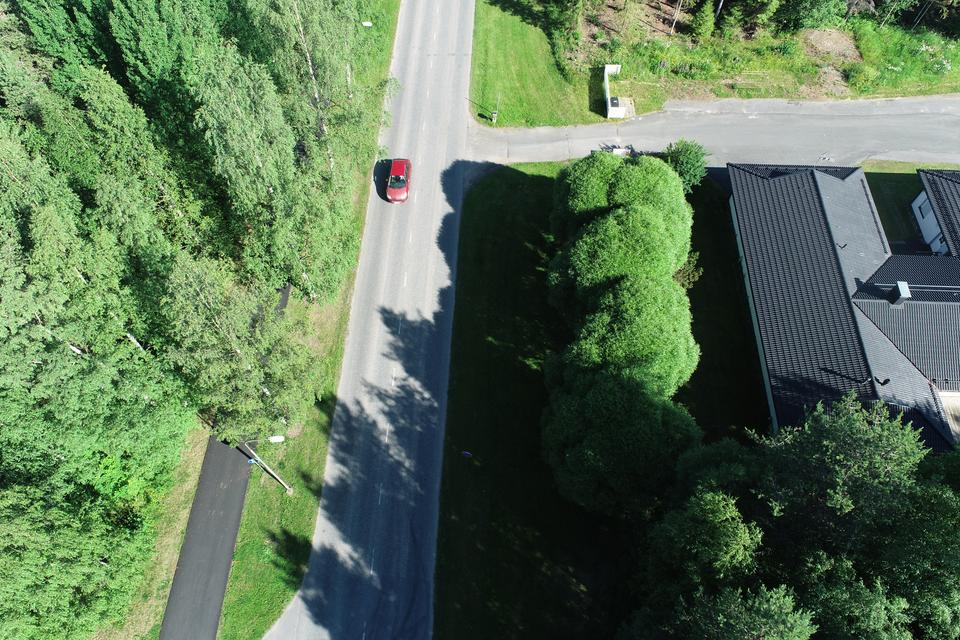intersection: (351, 84, 522, 215)
